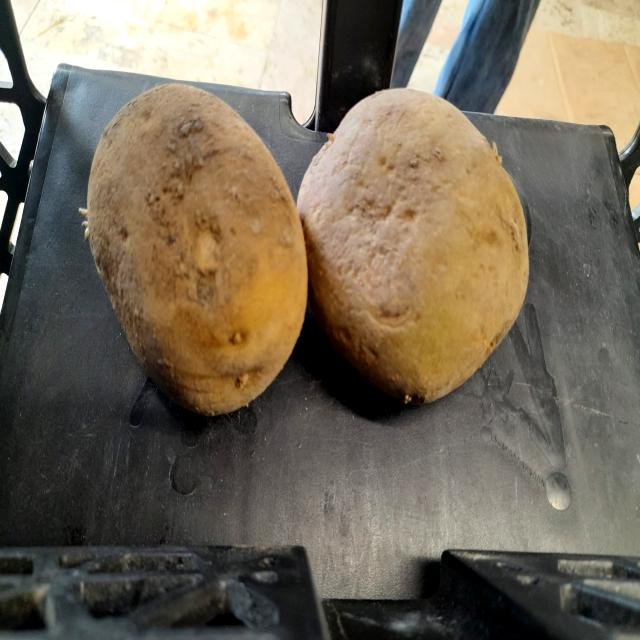potato: (295, 71, 542, 414), (78, 74, 309, 428)
